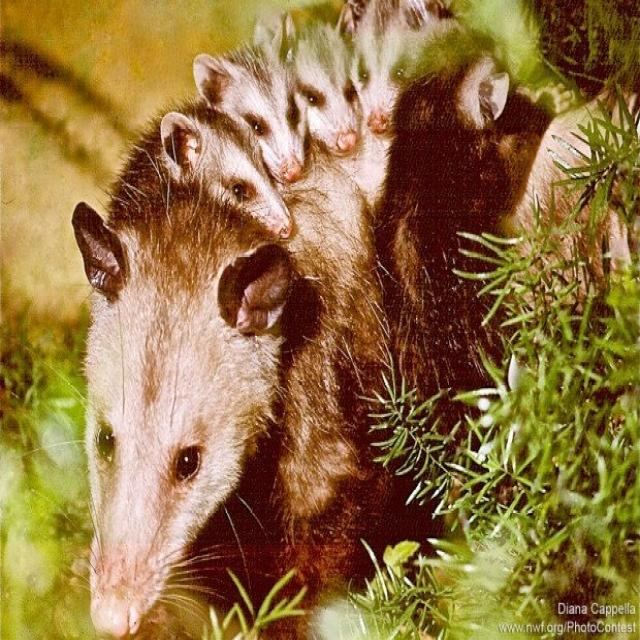Possum: (62, 4, 546, 640), (142, 71, 300, 245), (188, 32, 313, 176), (268, 9, 376, 162), (334, 5, 424, 137)
